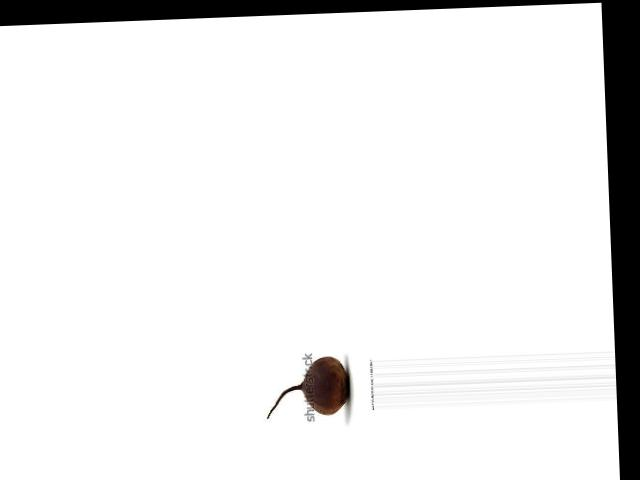beet: (264, 354, 350, 418)
